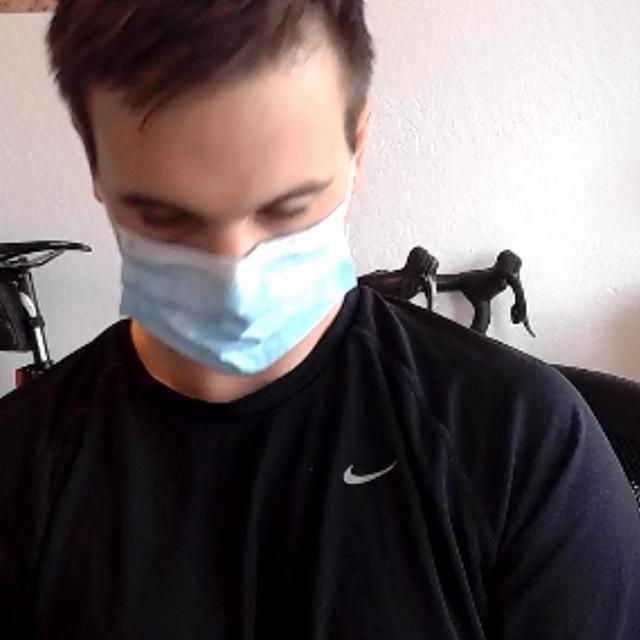Mask: (106, 189, 362, 374)
NO-Hardhat: (47, 0, 355, 80)
NO-Safety Vest: (0, 320, 554, 640)
Person: (0, 0, 640, 640)
